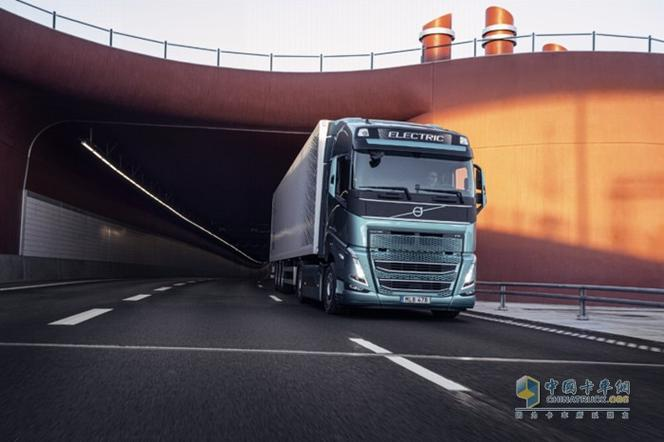卡车: (260, 112, 483, 330)
